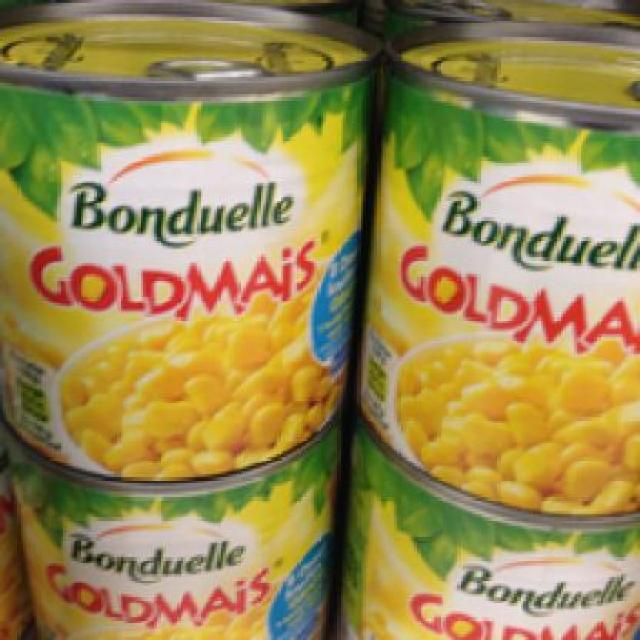Corn: (0, 17, 366, 474), (360, 19, 637, 512), (0, 417, 340, 637), (337, 425, 632, 638)
